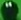black: (0, 0, 21, 20)
